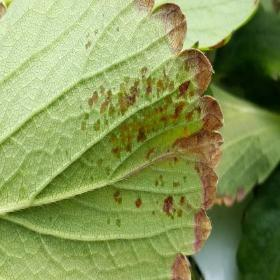Angular Leafspot: (60, 9, 218, 230)
